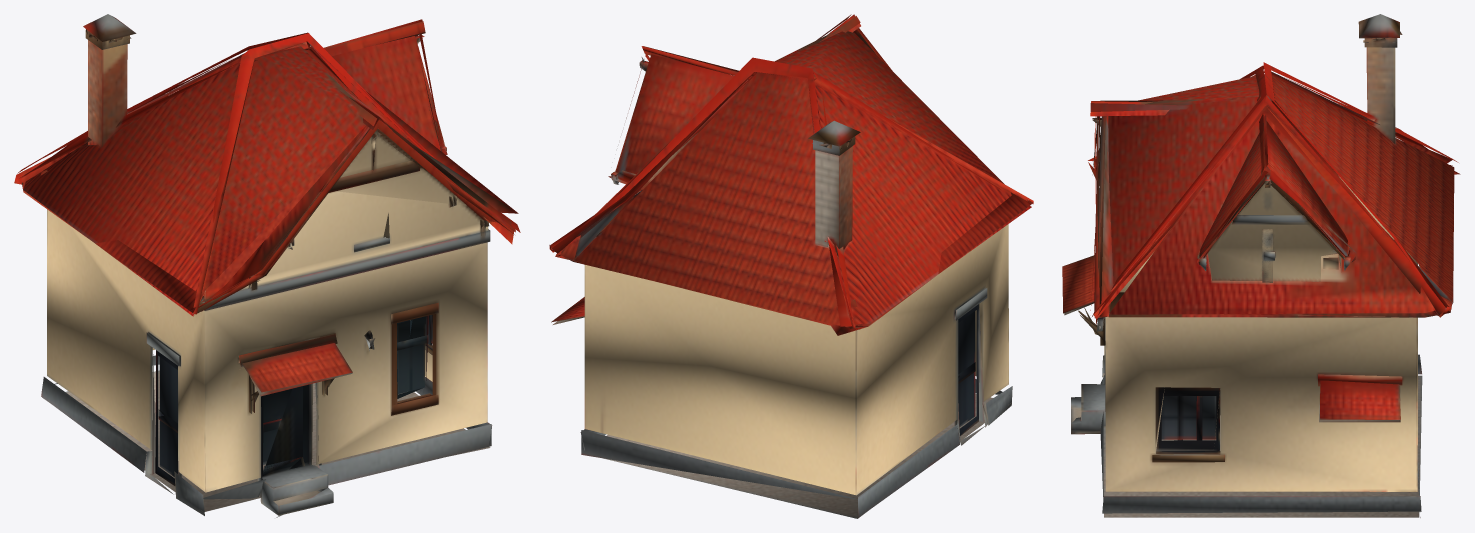
Rendered from terrain-house.glb.
3 renders of one model, left to right at view 1: azimuth 30°, elevation 25°; view 2: azimuth 150°, elevation 25°; view 3: azimuth 270°, elevation 25°, orthographic. The views are drawn at different scales.
Parts seen in each view (by area): view 1: terrain-house; view 2: terrain-house; view 3: terrain-house.
Boxes of the visible parts, box(x1,y1,x2,y2) form: terrain-house: box(14, 14, 520, 517); terrain-house: box(549, 14, 1033, 518); terrain-house: box(1062, 14, 1460, 517).
Bounding box in the file's own units: 0.8945 × 0.98 × 0.9.
1 material, 1 textured.
